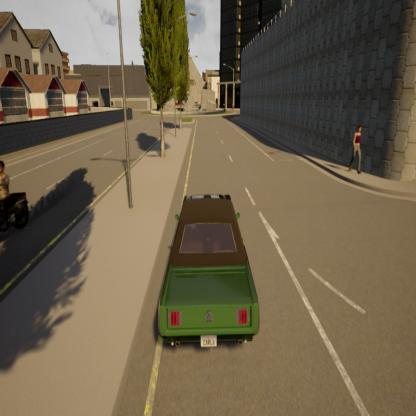Cars: (148, 179, 267, 360)
Pedestrian: (347, 118, 369, 182)
